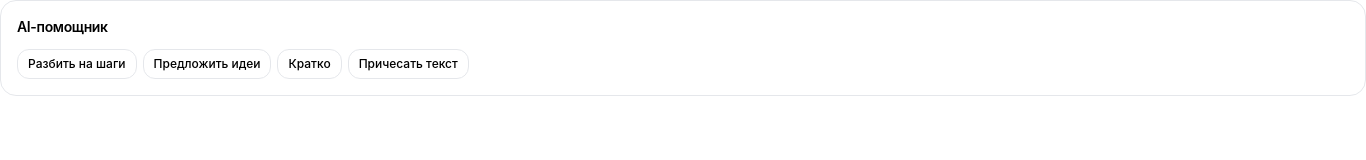
Scenario: AiAssistant › показывает ошибку, а не пустой список
Click the button "Кратко": (310, 64) [278,49,342,79]
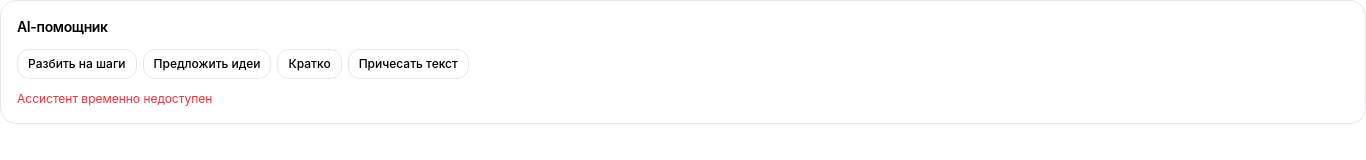
Expected: the message reads "Ассистент временно недоступен", [17,91,212,106]
